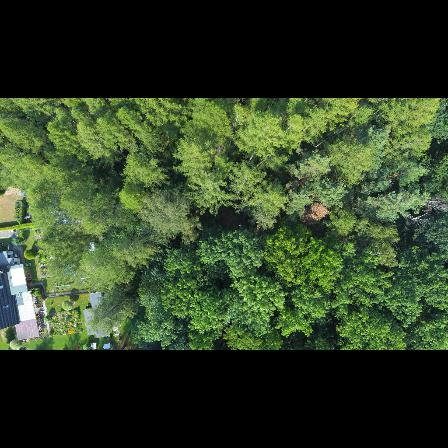Dead: (400, 210, 433, 231), (419, 193, 448, 215)
